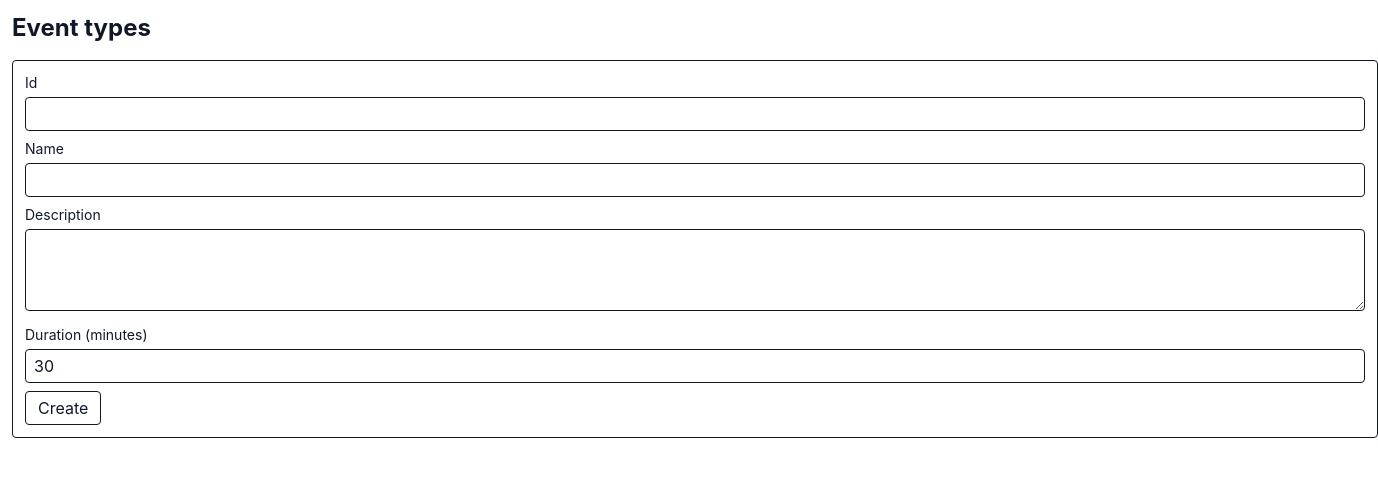
Test: HostEventTypesPage › requires a positive duration before creating
In the field labelled "Name": {"x": 695, "y": 180} [25,163,1365,197], type "Demo"
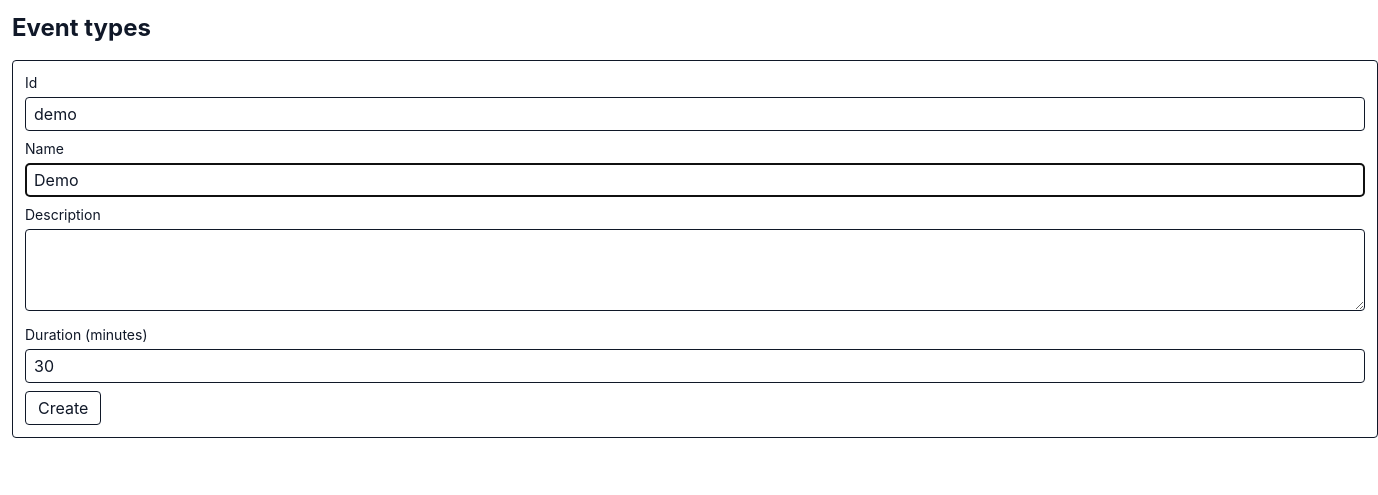
Replace the text in the number field labelled "Duration (minutes)" with "0": {"x": 695, "y": 366} [25,349,1365,383]
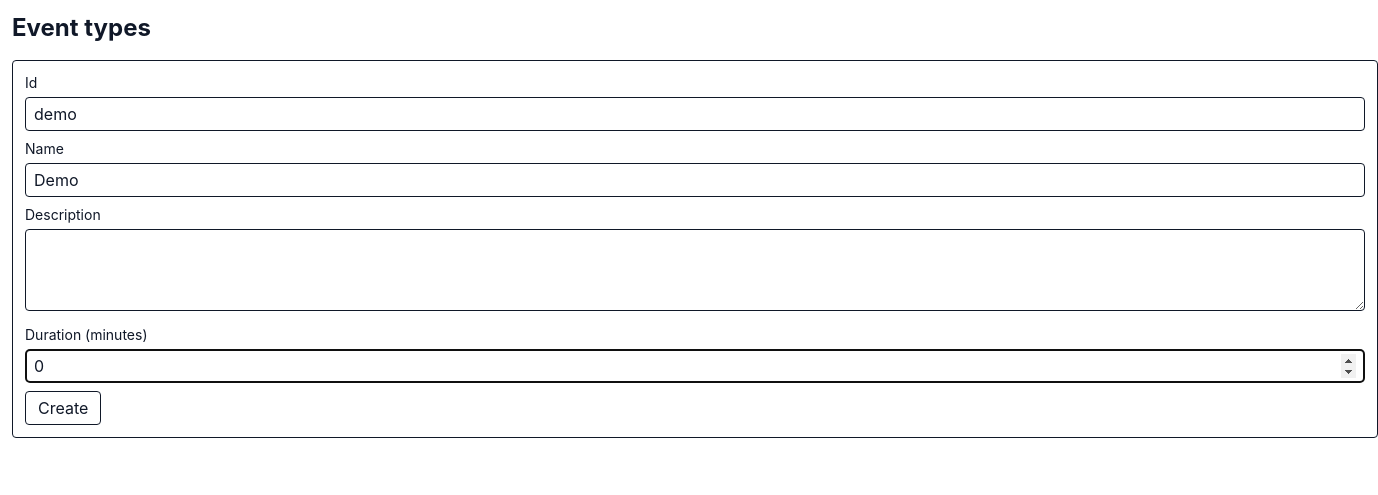
Click the button "Create": {"x": 63, "y": 408} [25,391,101,425]
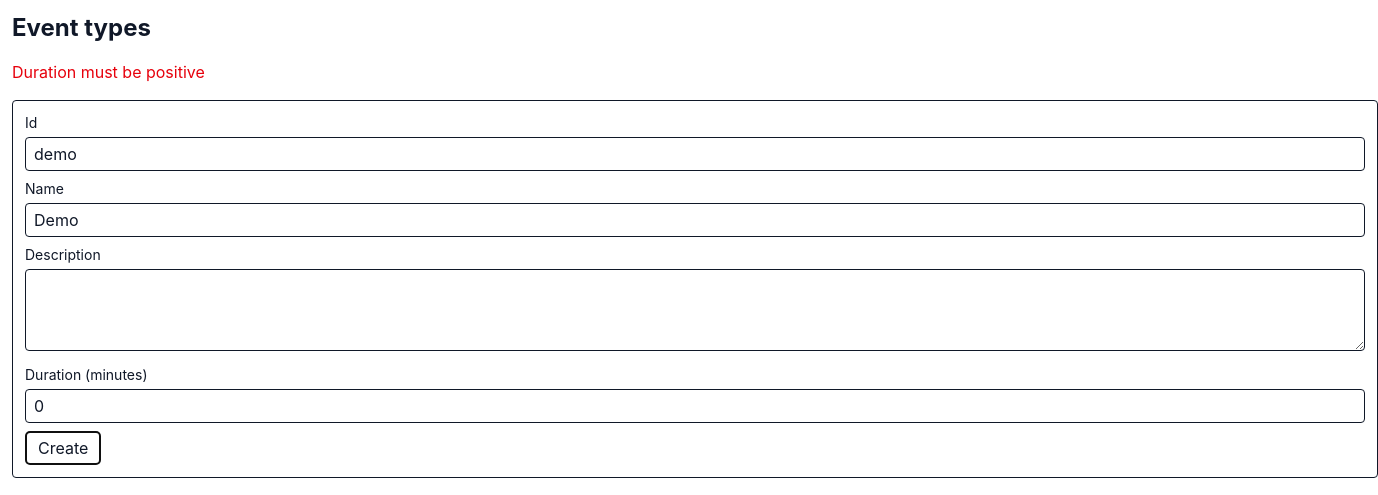
Now the text "Duration must be positive" is shown, box [12,62,205,82]
